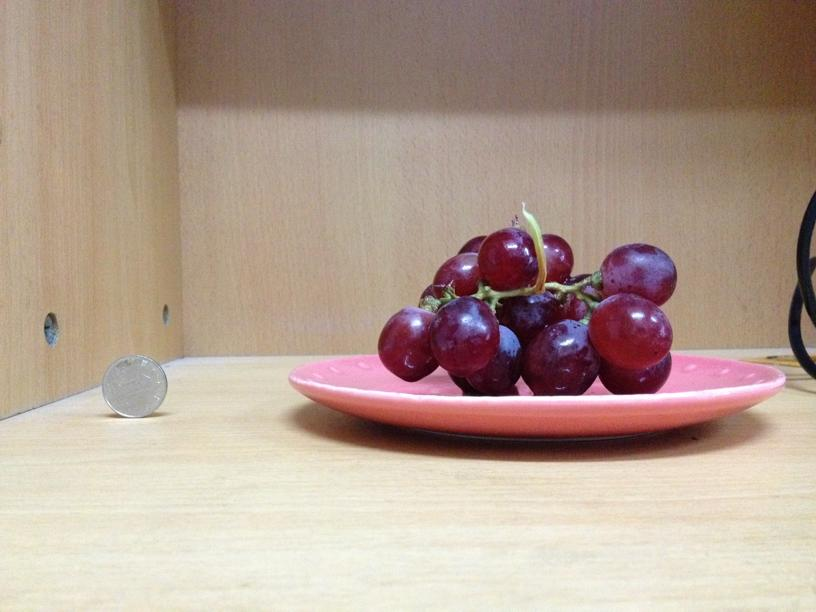coin: (102, 354, 166, 418)
grape: (376, 227, 683, 394)
